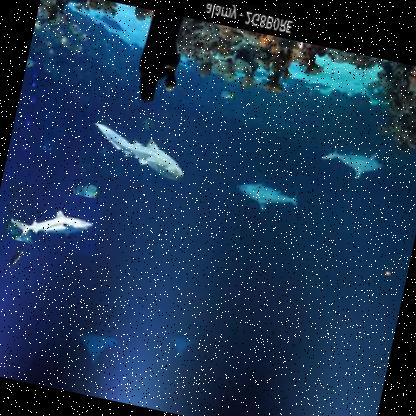zebra_shark: (77, 95, 200, 190), (0, 180, 106, 256)
